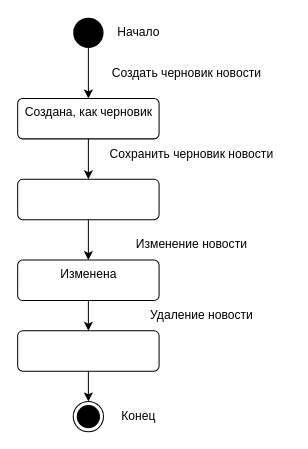
Image size: 308x449. Some labels were removed from this diagram. The shapes that lost their labels are listed below. From the top down, each one's centre as x and y in pixels, then its label:
the point at 88,199: Сохранена в базу
the point at 88,350: Удалена
